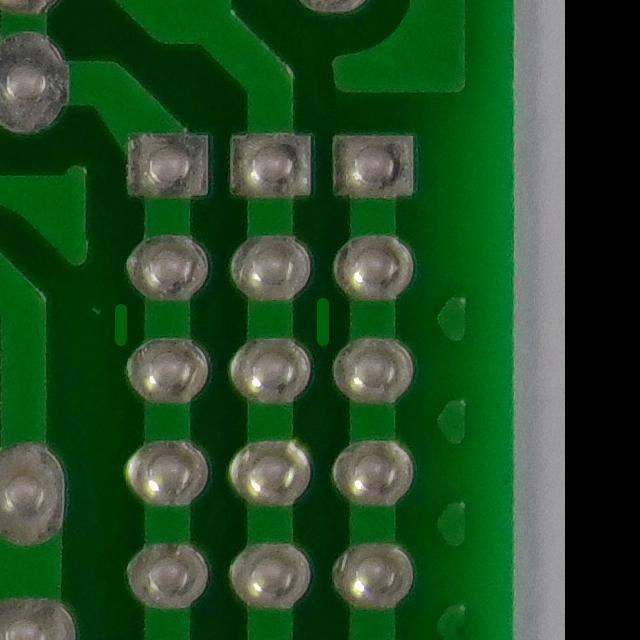spurious_copper: (292, 285, 348, 356)
